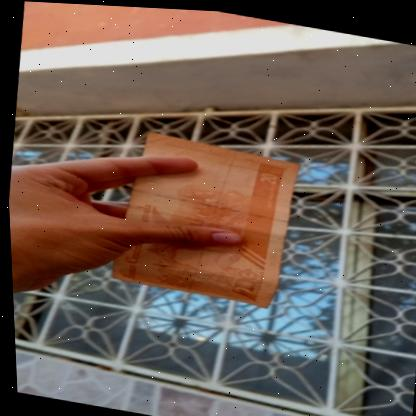twenty-back-vef: (101, 124, 304, 308)
